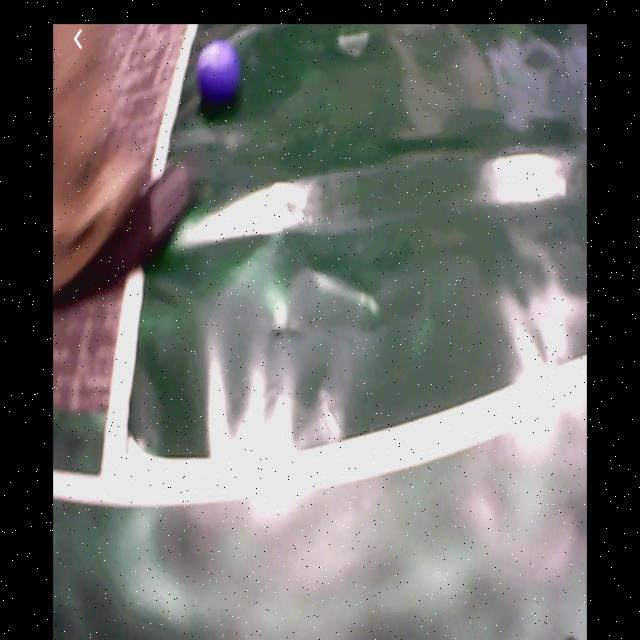ball: (198, 44, 239, 106)
